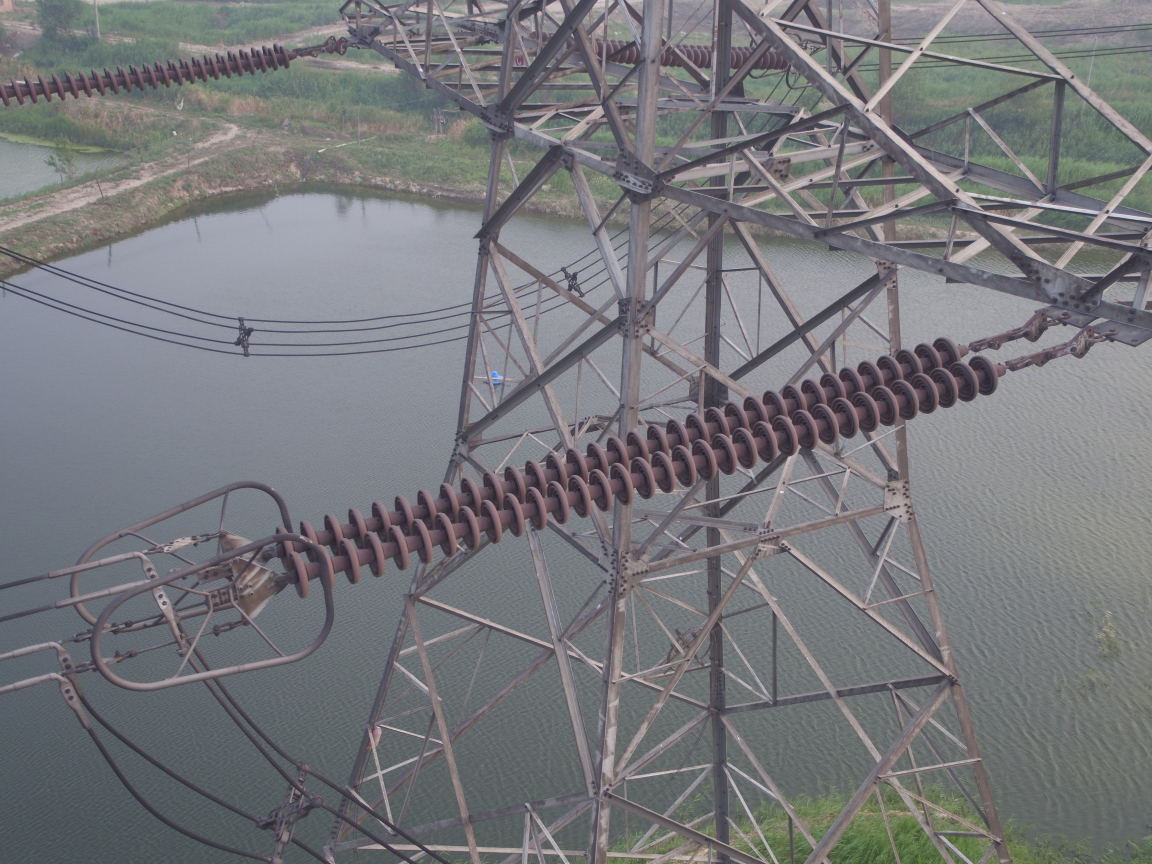insulator: (260, 331, 1037, 605), (1, 33, 325, 107)
